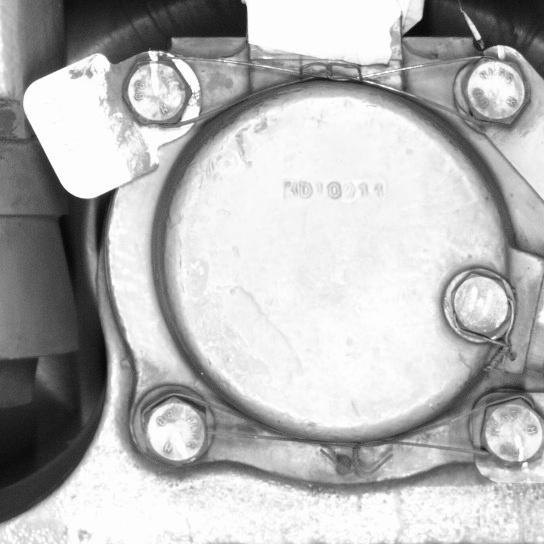IronWire: (127, 382, 542, 478), (114, 53, 536, 136)
Screw: (129, 382, 218, 471), (435, 261, 518, 351), (464, 386, 542, 480), (454, 52, 536, 135), (115, 54, 199, 135)
